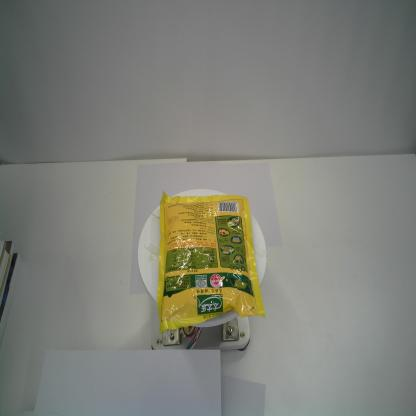Seasoner: (156, 190, 266, 334)
